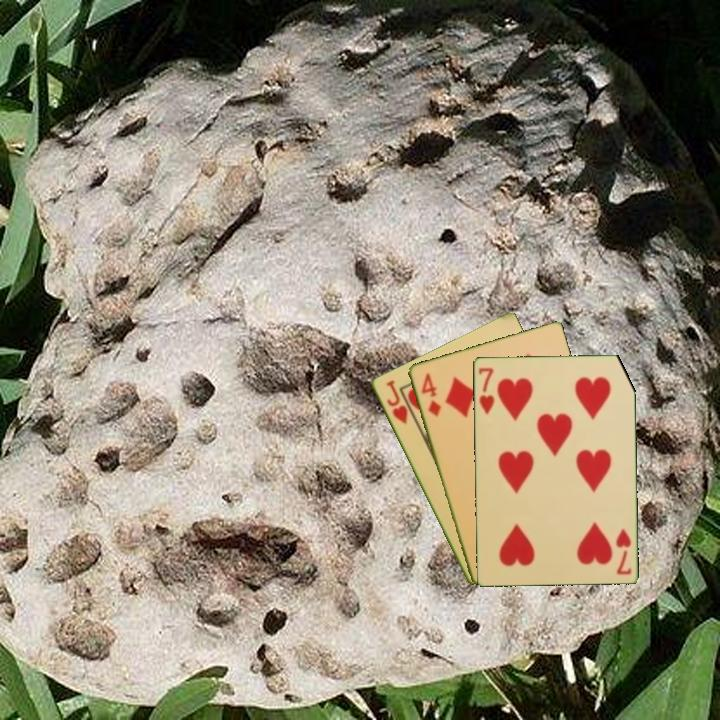4d: (417, 369, 444, 419)
7h: (475, 364, 497, 417), (612, 525, 634, 577)
Jh: (382, 376, 410, 426)
